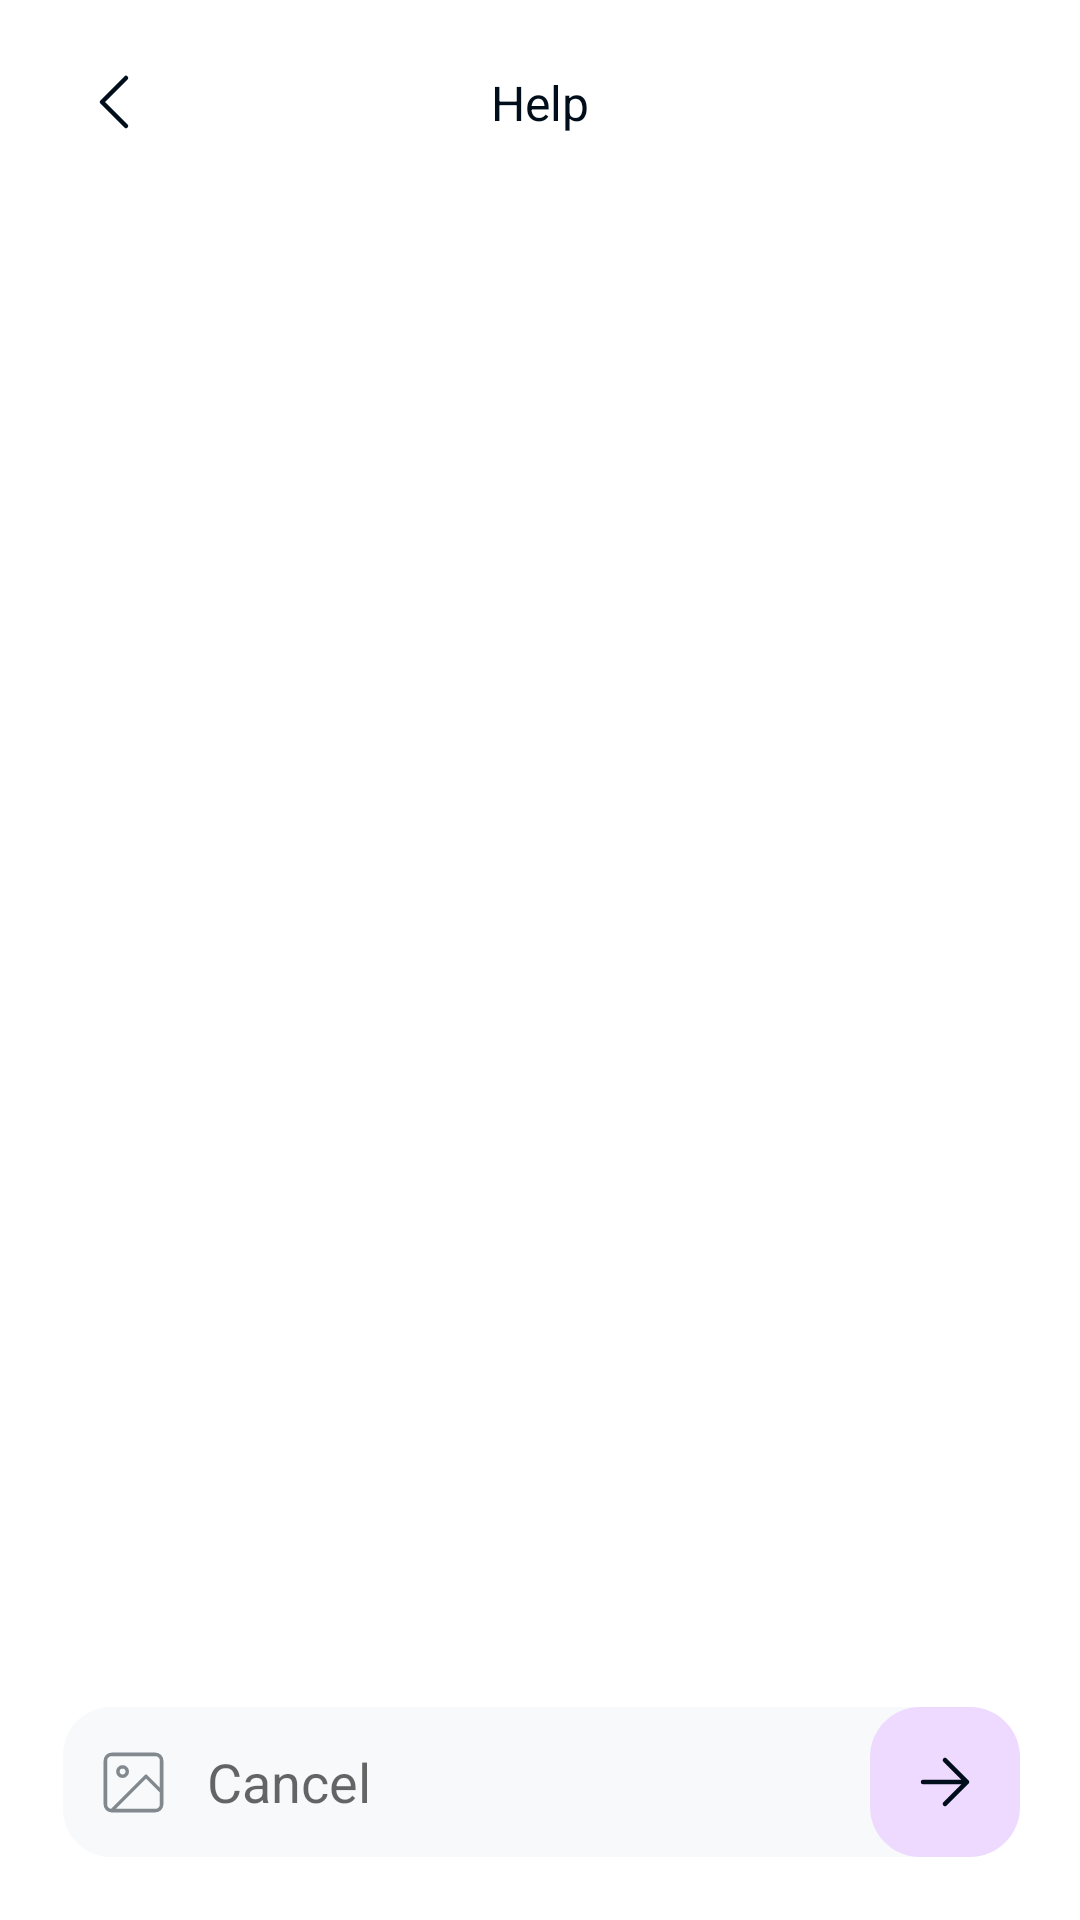

Icon bounding boxes for this 1080x1920 phone screenshot, format (x1, y1, x2, y2):
buttons send: (870, 1707, 1020, 1857)
chevron left: (99, 75, 129, 129)
